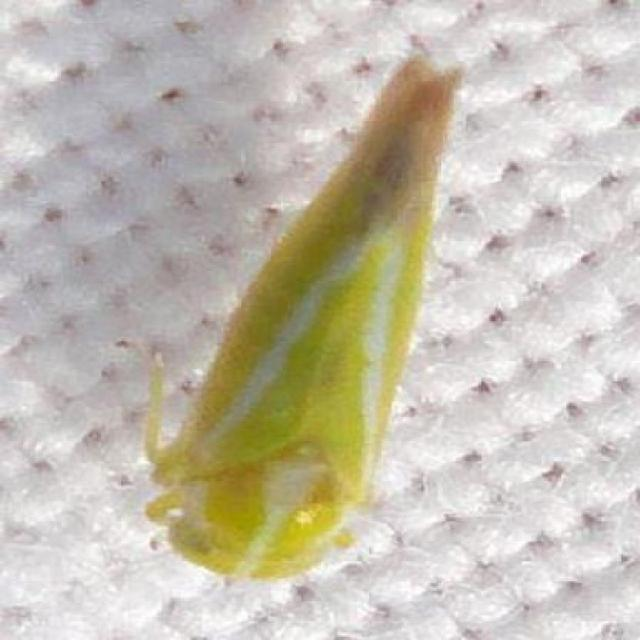green-leafhopper: (142, 44, 483, 574)
